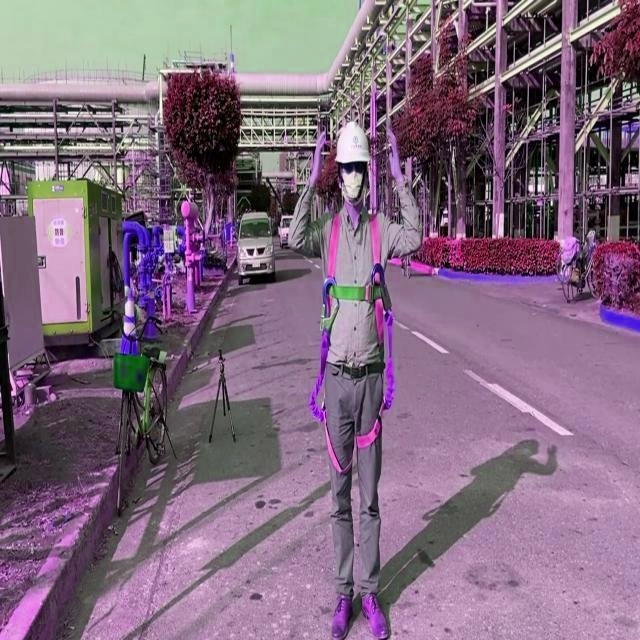safety belt: (319, 201, 395, 477)
